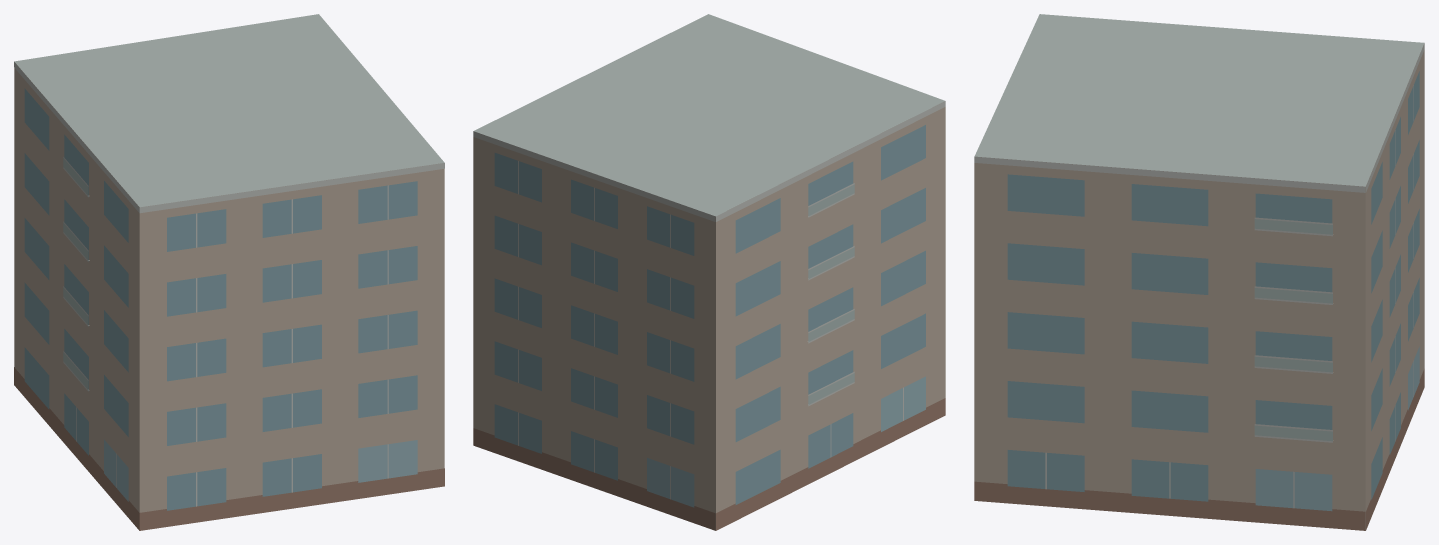
File: survey-upis-32653473.glb
3 views of the same model, side by side, from view 1: azimuth 30°, elevation 25°; view 2: azimuth 150°, elevation 25°; view 3: azimuth 270°, elevation 25° (orthographic). The views are drawn at different scales.
Parts seen in each view (by area): view 1: survey-upis-32653473.tmp; view 2: survey-upis-32653473.tmp; view 3: survey-upis-32653473.tmp.
Part boxes in pixels (x1,y1,x2,y2): survey-upis-32653473.tmp: [14, 14, 444, 530]; survey-upis-32653473.tmp: [473, 14, 945, 530]; survey-upis-32653473.tmp: [974, 14, 1424, 530].
Bounding box in the file's own units: 14.31 × 13.3 × 15.77.
